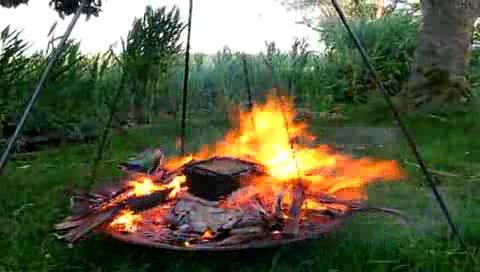fire: (225, 103, 379, 195), (122, 157, 186, 228)
